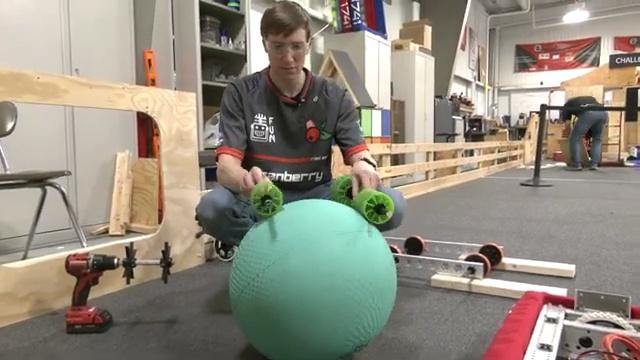ALGAE: (227, 197, 398, 358)
